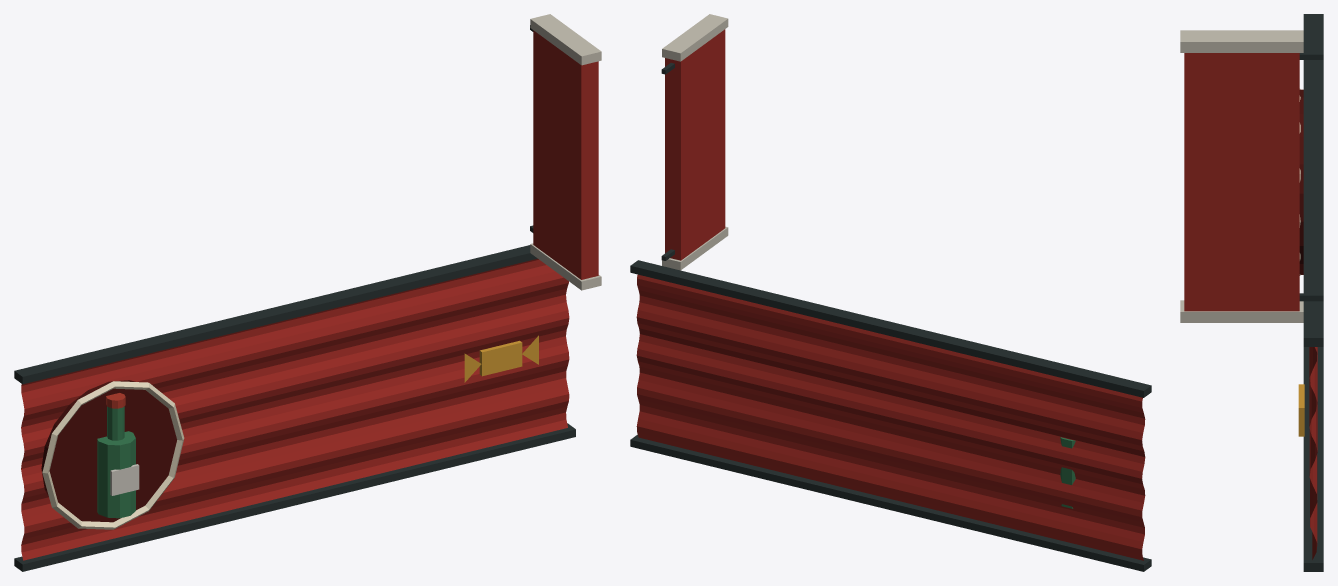
Rendered from bang_tap_hoa_co_ut_40.glb.
3 renders of one model, left to right at view 1: azimuth 30°, elevation 25°; view 2: azimuth 150°, elevation 25°; view 3: azimuth 270°, elevation 25°, orthographic. The views are drawn at different scales.
Parts seen in each view (by area): view 1: bang_tap_hoa_co_ut_40; view 2: bang_tap_hoa_co_ut_40; view 3: bang_tap_hoa_co_ut_40.
Boxes of the visible parts, x1,y1,x2,y2 form: bang_tap_hoa_co_ut_40: [14, 14, 601, 571]; bang_tap_hoa_co_ut_40: [630, 14, 1151, 571]; bang_tap_hoa_co_ut_40: [1180, 14, 1323, 571].
Size of the model in its own units: 3.86 by 2.86 by 0.72.
